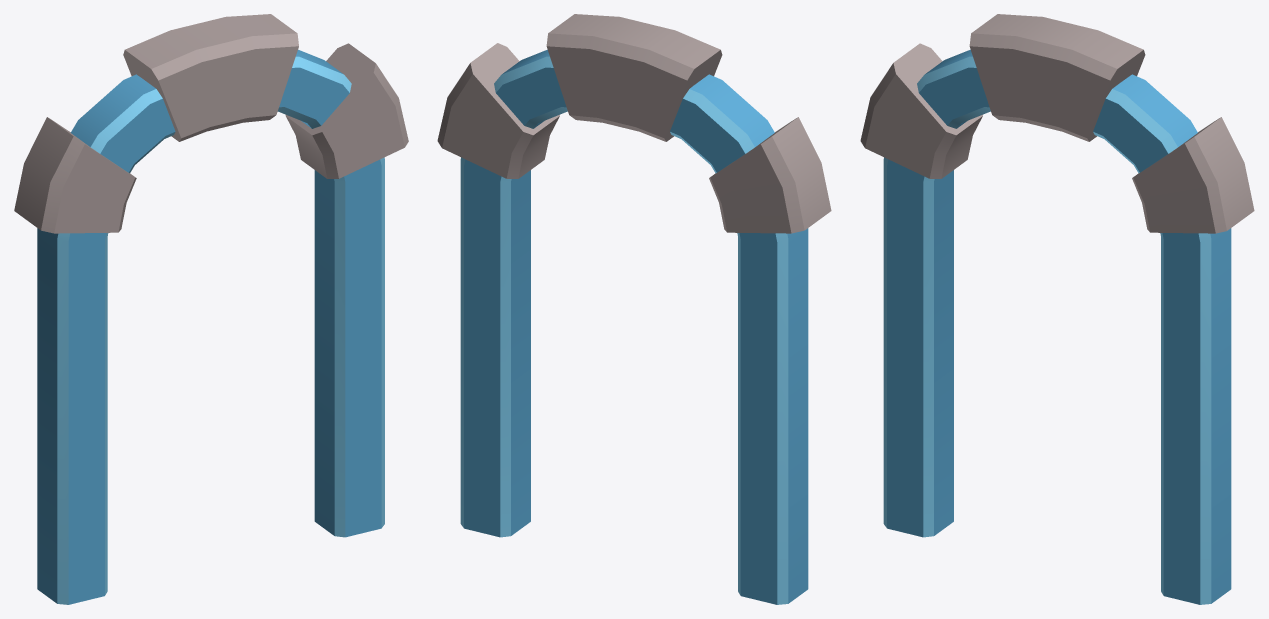
Rendered from Gate-Portal.fbx.
3 renders of one model, left to right at view 1: azimuth 30°, elevation 25°; view 2: azimuth 150°, elevation 25°; view 3: azimuth 330°, elevation 25°, orthographic.
Parts seen in each view (by area): view 1: gate, gate.002, gate.001, gate.003; view 2: gate, gate.002, gate.001, gate.003; view 3: gate, gate.002, gate.003, gate.001.
Part boxes in pixels (x1=…): gate: x1=37, y1=49, x2=384, y2=604; gate.002: x1=123, y1=14, x2=298, y2=141; gate.001: x1=14, y1=117, x2=136, y2=233; gate.003: x1=285, y1=43, x2=408, y2=178; gate: x1=460, y1=49, x2=808, y2=604; gate.002: x1=546, y1=14, x2=722, y2=141; gate.001: x1=709, y1=117, x2=831, y2=233; gate.003: x1=437, y1=43, x2=559, y2=178; gate: x1=883, y1=49, x2=1231, y2=604; gate.002: x1=969, y1=14, x2=1145, y2=141; gate.003: x1=1132, y1=117, x2=1254, y2=233; gate.001: x1=860, y1=43, x2=982, y2=178.
Bounding box in the file's own units: 229 × 312 × 38.37.
